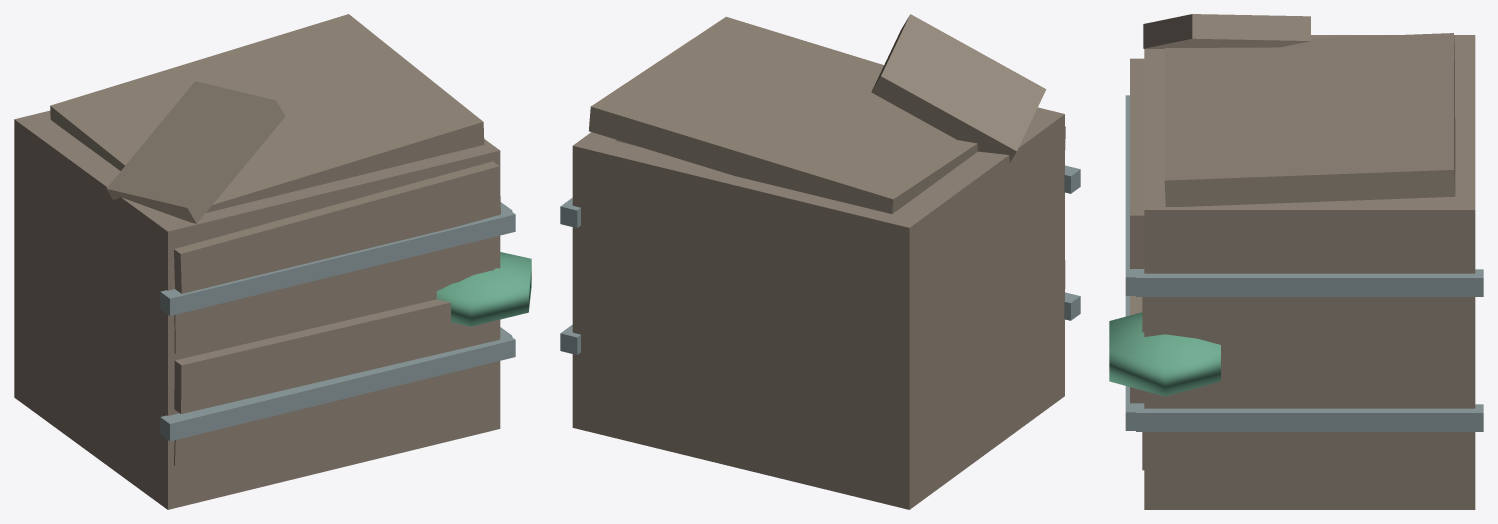
The model's file is sunken-city-and-underwater-ruins-cargo-crate-waterlogg-8761132f__36979.glb.
The picture shows the model from 3 angles, left to right: view 1: azimuth 30°, elevation 25°; view 2: azimuth 150°, elevation 25°; view 3: azimuth 270°, elevation 25°; orthographic projection. The views are drawn at different scales.
Visible parts, largest first — view 1: cargo-crate-waterlogged; view 2: cargo-crate-waterlogged; view 3: cargo-crate-waterlogged.
Boxes of the visible parts, bbox=[...] form: cargo-crate-waterlogged: bbox=[14, 14, 531, 509]; cargo-crate-waterlogged: bbox=[560, 14, 1080, 509]; cargo-crate-waterlogged: bbox=[1109, 14, 1483, 509].
Bounding box in the file's own units: 1.14 × 1.04 × 0.905.
